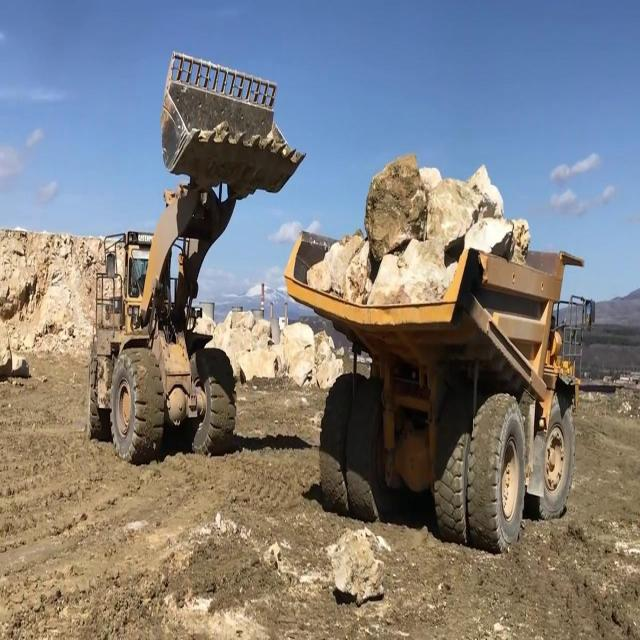buldozerpayloadergrader: (81, 51, 307, 458)
dump_truck: (283, 236, 595, 554)
